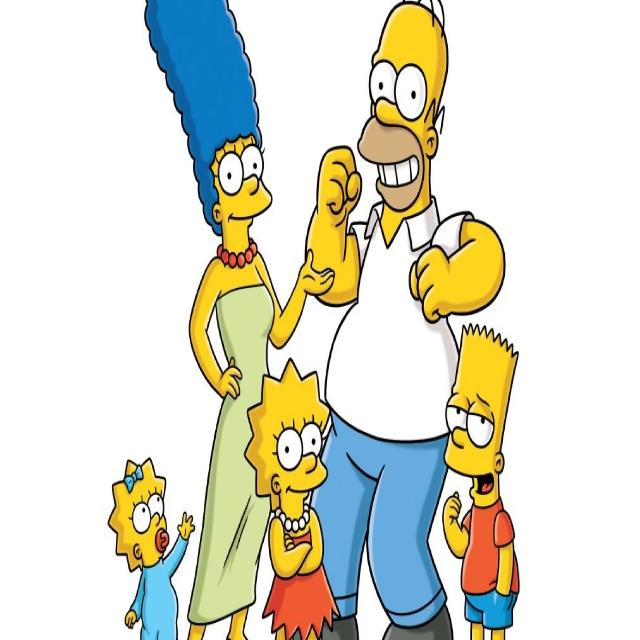Bart Simpson: (442, 320, 521, 512)
Homer Simpson: (356, 0, 451, 226)
Lisa Simpson: (242, 353, 332, 538)
Maggie Simpson: (106, 454, 171, 576)
Marge Simpson: (143, 0, 274, 272)
